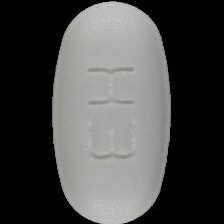21695-457: (0, 0, 224, 224)
